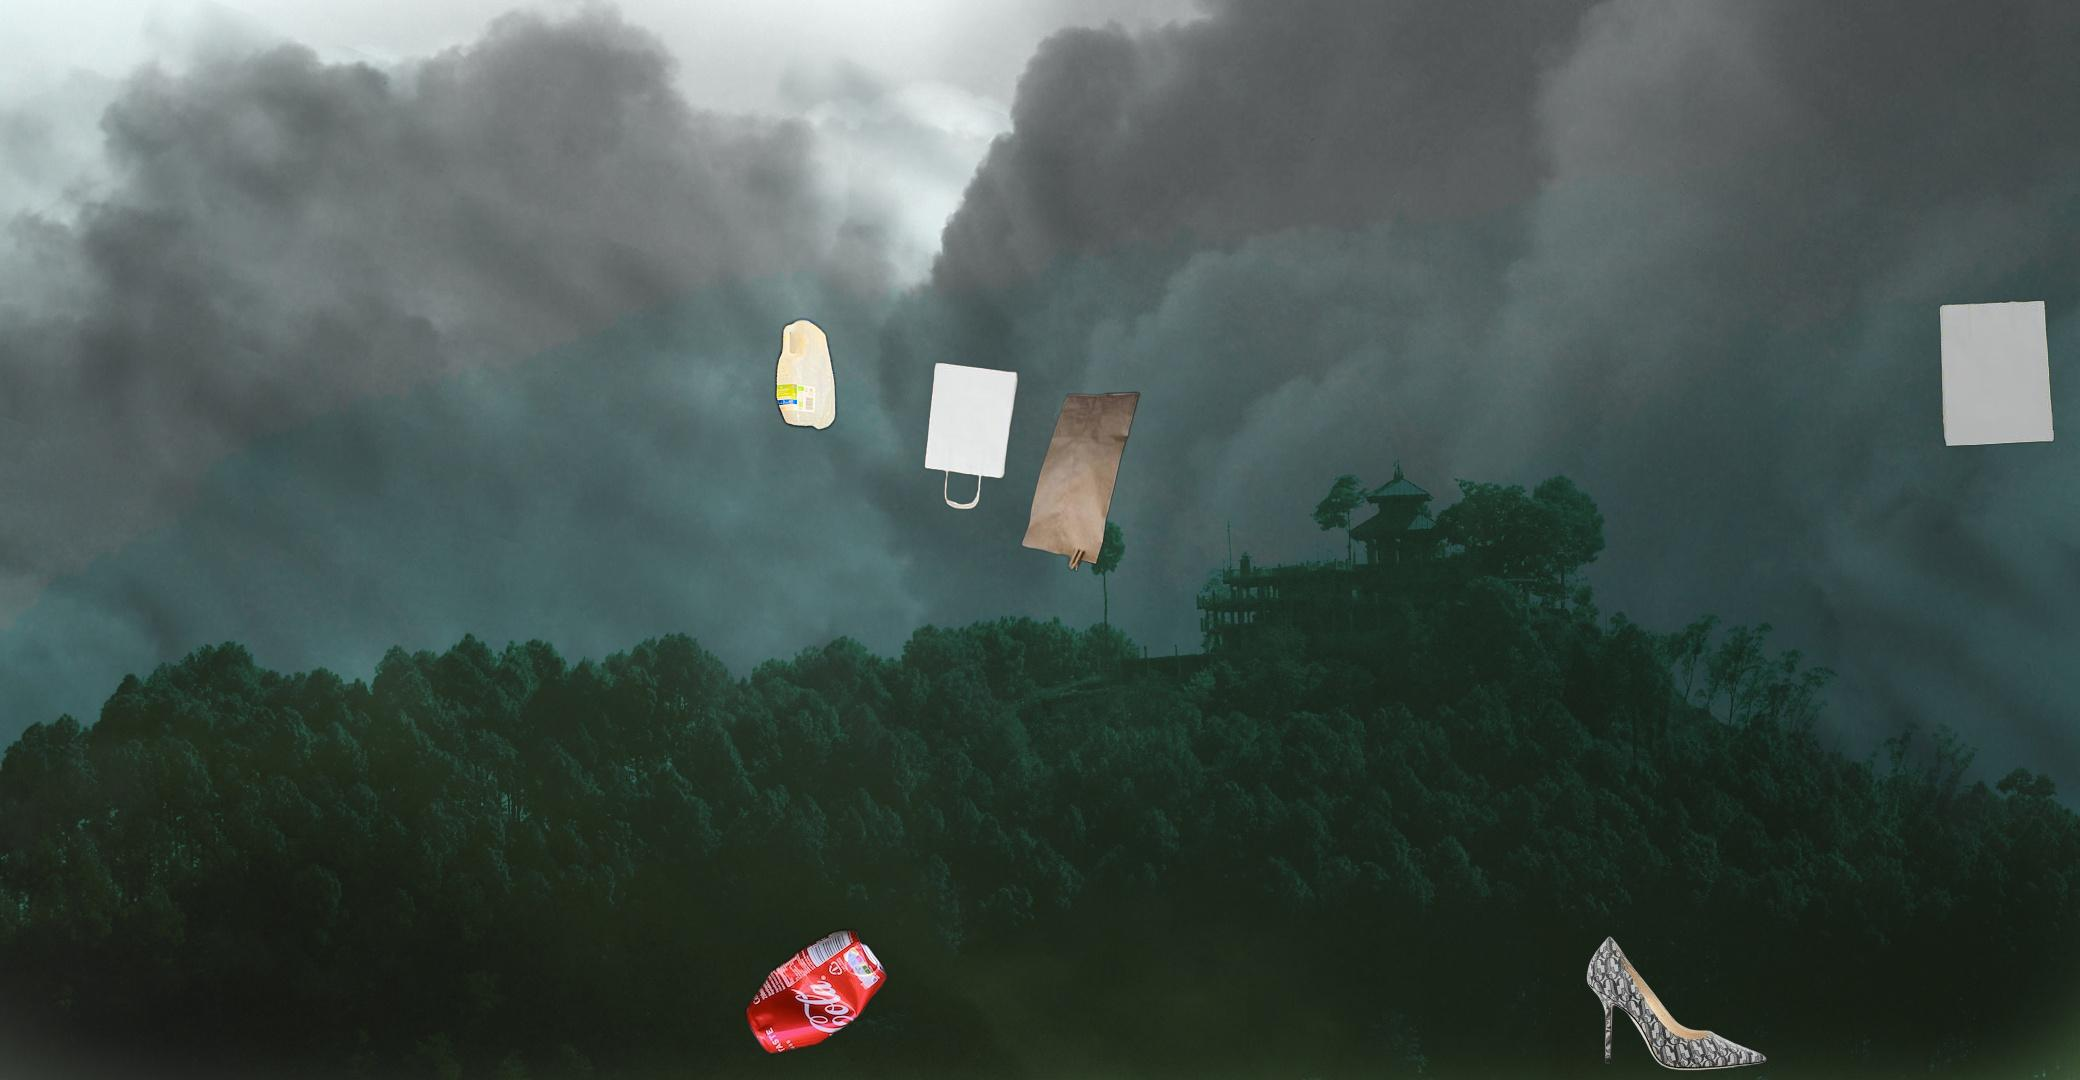metal-cans: (740, 923, 891, 1061)
paper-bag: (920, 360, 1169, 576), (1936, 297, 2080, 449)
plastic-bottles: (770, 314, 841, 436)
shoes: (1583, 933, 1769, 1074)
